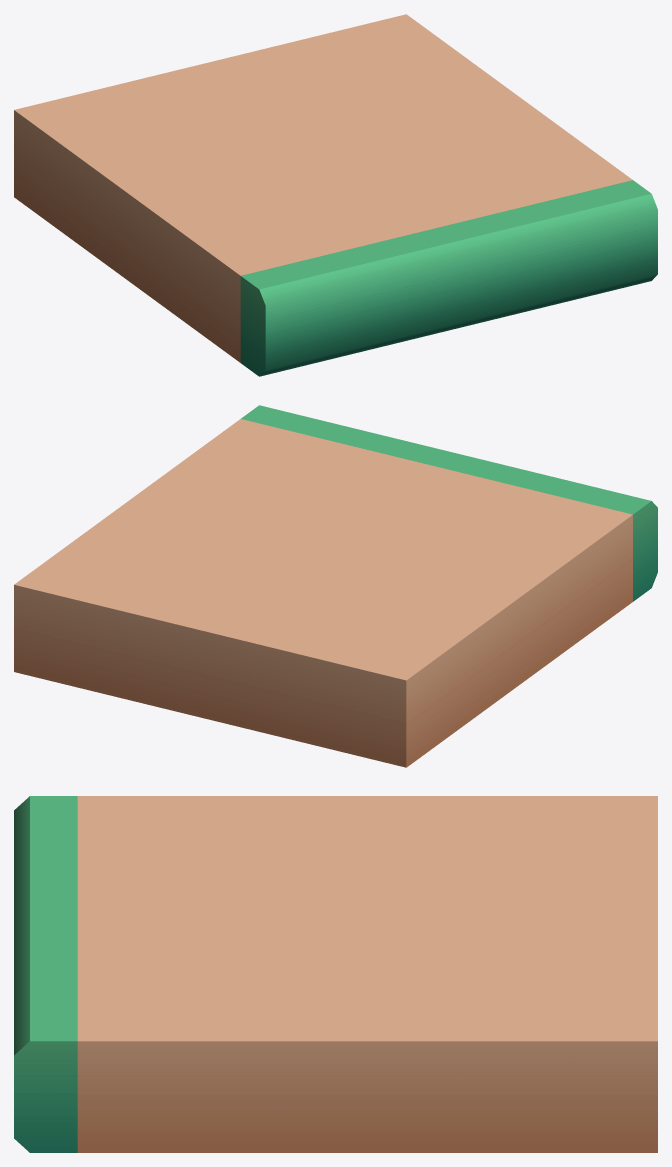
The model's file is roof-flat-awning-a.glb.
3 views of the same model, one above another, from view 1: azimuth 30°, elevation 25°; view 2: azimuth 150°, elevation 25°; view 3: azimuth 270°, elevation 25° (orthographic). The views are drawn at different scales.
Parts seen in each view (by area): view 1: roof-flat-awning-a; view 2: roof-flat-awning-a; view 3: roof-flat-awning-a.
Boxes of the visible parts, <box> form: roof-flat-awning-a: <box>14,14,657,376</box>; roof-flat-awning-a: <box>14,405,657,767</box>; roof-flat-awning-a: <box>14,796,657,1152</box>.
Bounding box in the file's own units: 1 × 0.2125 × 1.11.
Materials: 1 (1 with a texture image).
